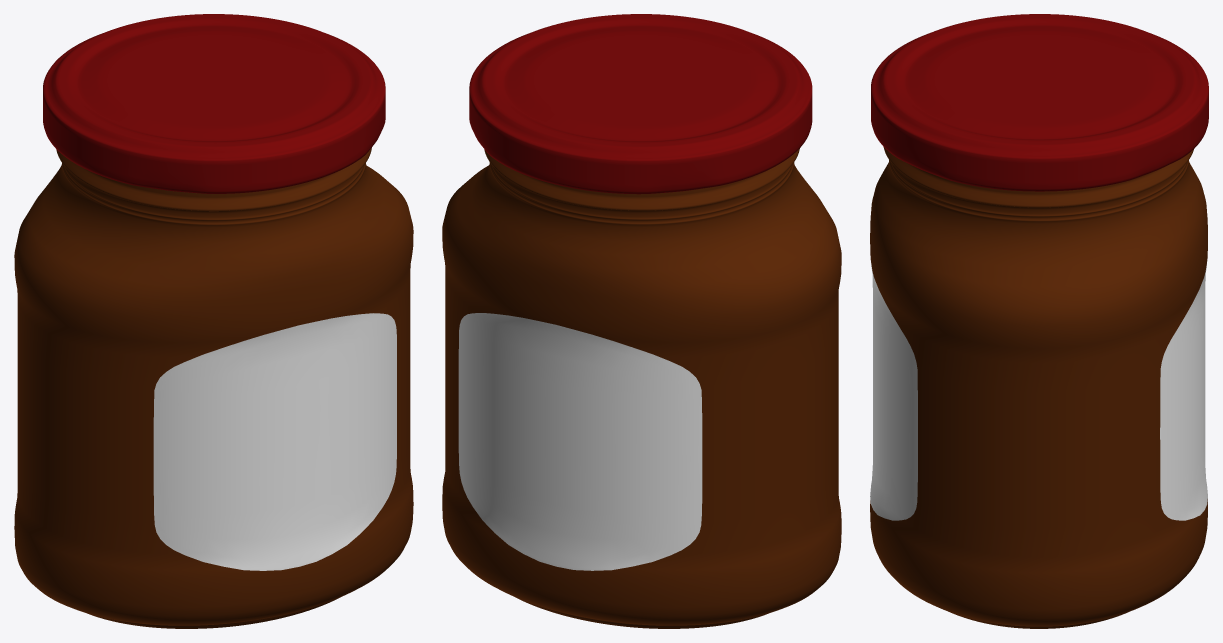
File: Modernism-Jar.fbx
3 views of the same model, side by side, from view 1: azimuth 30°, elevation 25°; view 2: azimuth 150°, elevation 25°; view 3: azimuth 270°, elevation 25° (orthographic).
Parts seen in each view (by area): view 1: jar_glass, label_front, outer_cap; view 2: jar_glass, label_back, outer_cap; view 3: jar_glass, outer_cap, label_back, label_front.
Part boxes in pixels (box(x1,y1,x2,y2)): jar_glass: box(14, 147, 413, 628); label_front: box(153, 313, 396, 570); outer_cap: box(43, 14, 385, 193); jar_glass: box(442, 148, 841, 628); label_back: box(458, 313, 702, 570); outer_cap: box(469, 14, 812, 194); jar_glass: box(870, 147, 1207, 628); outer_cap: box(871, 14, 1208, 191); label_back: box(1160, 264, 1207, 520); label_front: box(870, 265, 917, 520).
Size of the model in its own units: 39.5 by 50.93 by 32.6.
